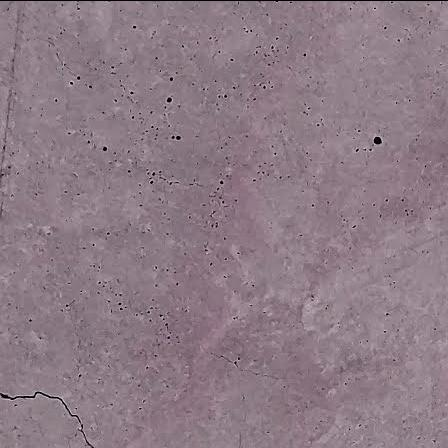crack: (0, 378, 104, 446), (193, 340, 288, 391)
